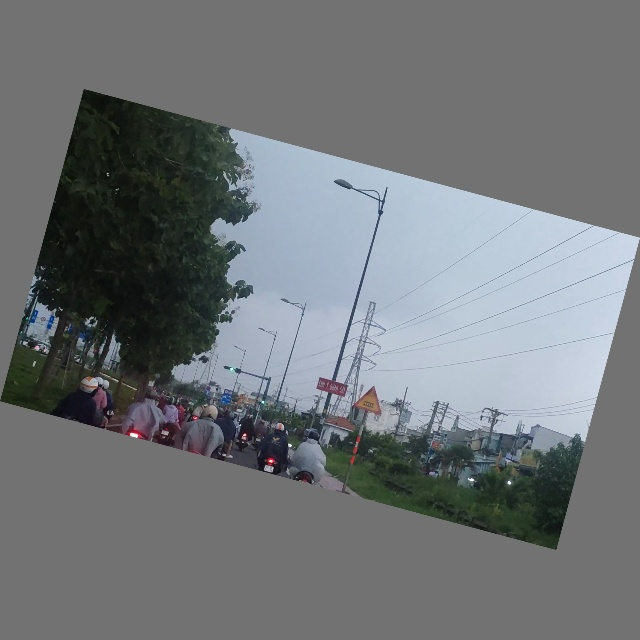W.210: (353, 383, 388, 416)
